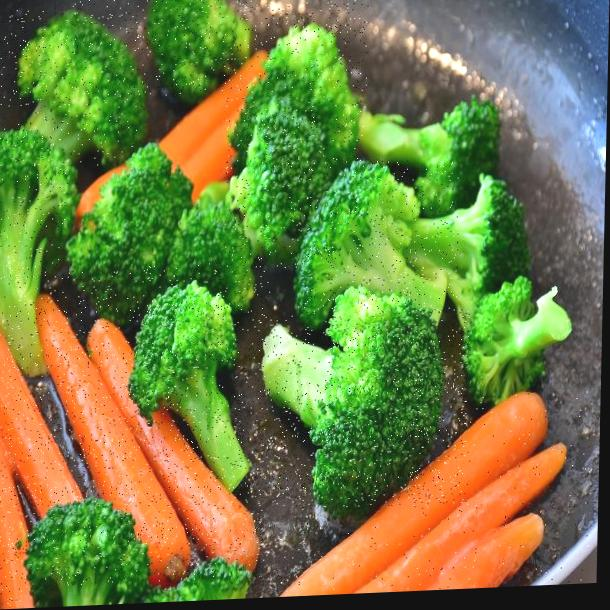Broccoli: (249, 308, 470, 514), (223, 0, 369, 272), (126, 268, 261, 510), (296, 157, 460, 346), (0, 0, 148, 169), (0, 107, 69, 379), (139, 0, 259, 97)
carrots: (17, 261, 271, 588), (260, 387, 592, 598), (0, 277, 29, 610)
